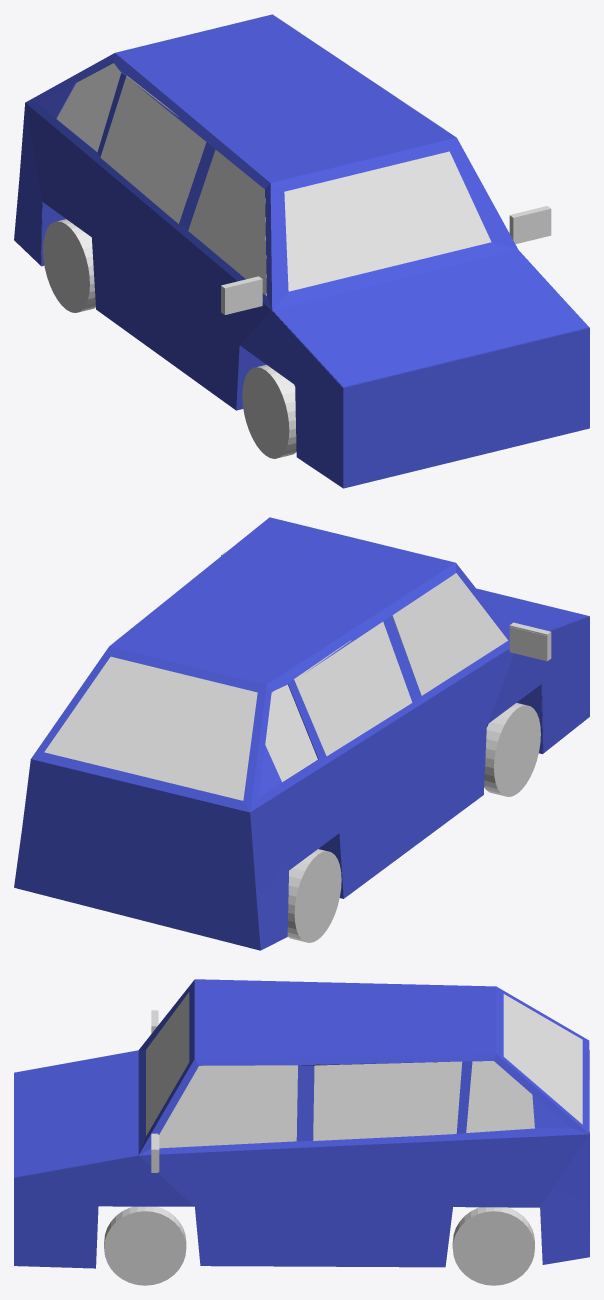
The model's file is ExportedBlenderFBXFile.fbx.
3 renders of one model, top to bottom at view 1: azimuth 30°, elevation 25°; view 2: azimuth 150°, elevation 25°; view 3: azimuth 270°, elevation 25°, orthographic. The views are drawn at different scales.
Visible parts, largest first — view 1: caisse, VitreAvant, VitreArriereDroit, VitreAvantDroit, AvantDroite, ArriereDroite, VitrePetiteDroit, RetroGauche, RetroDroit; view 2: caisse, VitreArriere, VitreArriereDroit, VitreAvantDroit, AvantDroite, ArriereDroite, VitrePetiteDroit, MiroireDroit; view 3: caisse, VitreArrierGauche, VitreAvantGauche, VitreArriere, AvantGauche, ArriereGauche, VitrePetiteGauche, VitreAvant.
Part boxes in pixels (bbox=[...]): caisse: bbox=[14, 14, 589, 488]; VitreAvant: bbox=[284, 151, 491, 291]; VitreArriereDroit: bbox=[100, 75, 206, 223]; VitreAvantDroit: bbox=[188, 149, 266, 296]; AvantDroite: bbox=[242, 364, 296, 458]; ArriereDroite: bbox=[43, 219, 95, 312]; VitrePetiteDroit: bbox=[56, 63, 121, 151]; RetroGauche: bbox=[221, 276, 262, 314]; RetroDroit: bbox=[509, 206, 551, 244]; caisse: bbox=[14, 517, 589, 950]; VitreArriere: bbox=[44, 656, 257, 800]; VitreArriereDroit: bbox=[294, 622, 412, 756]; VitreAvantDroit: bbox=[392, 573, 507, 695]; AvantDroite: bbox=[484, 703, 540, 796]; ArriereDroite: bbox=[287, 849, 341, 942]; VitrePetiteDroit: bbox=[265, 684, 317, 782]; MiroireDroit: bbox=[510, 627, 546, 660]; caisse: bbox=[14, 979, 589, 1268]; VitreArrierGauche: bbox=[313, 1061, 462, 1140]; VitreAvantGauche: bbox=[159, 1065, 297, 1148]; VitreArriere: bbox=[503, 994, 582, 1124]; AvantGauche: bbox=[104, 1206, 186, 1285]; ArriereGauche: bbox=[452, 1207, 534, 1285]; VitrePetiteGauche: bbox=[466, 1061, 534, 1132]; VitreAvant: bbox=[146, 992, 189, 1135].
Size of the model in its own units: 4.41 by 3.15 by 7.71.
